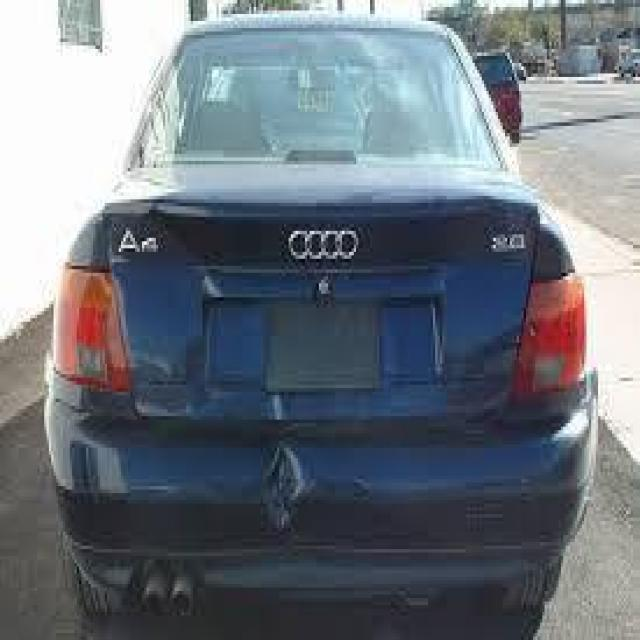damaged: (256, 434, 317, 536)
